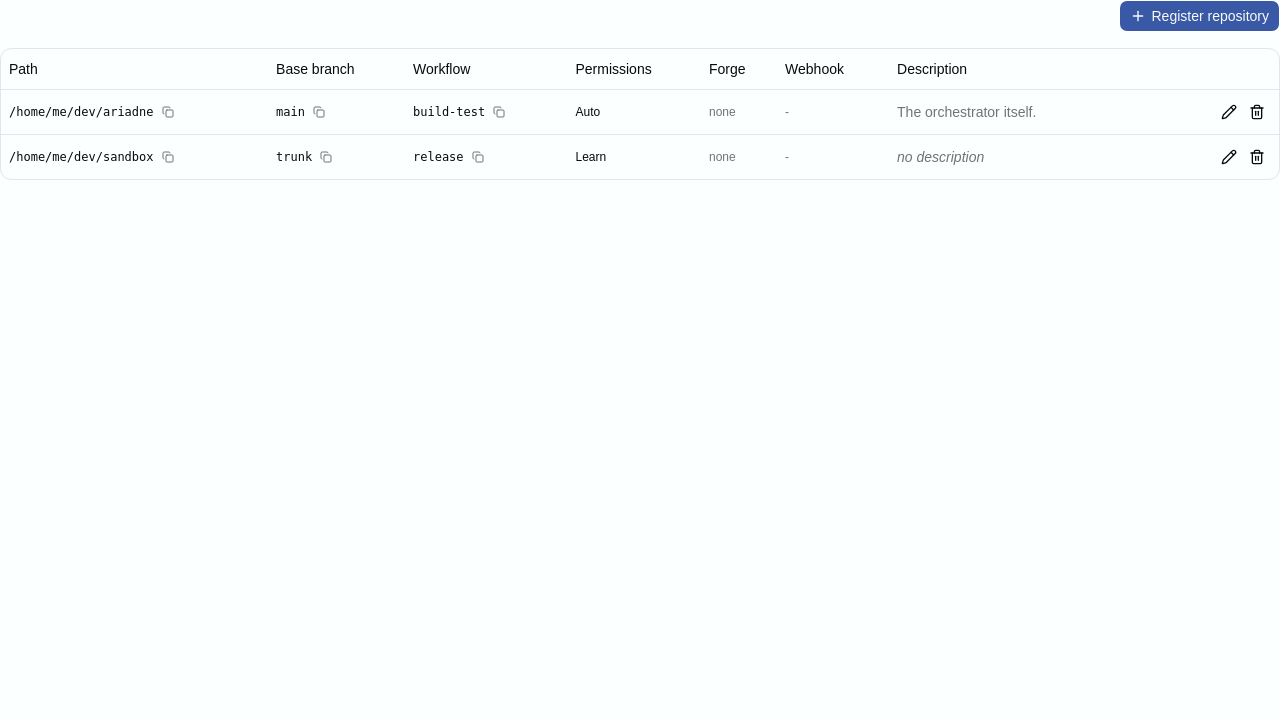
removing a repository › keeps the daemon's refusal on screen and stops offering the click
What coordinates should you click on to do the following:
click the button named "Remove /home/me/dev/ariadne"
I would click on:
 (1257, 112)
Its box is left=1243, top=98, right=1271, bottom=126.
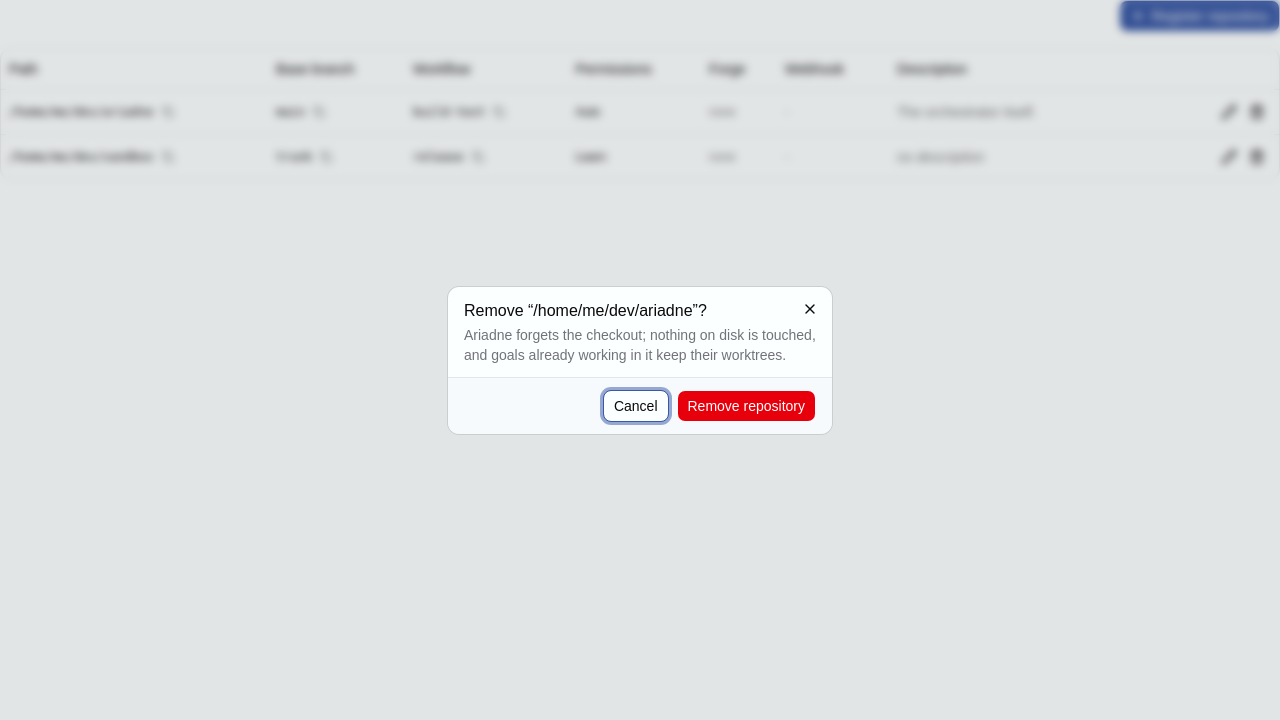
What coordinates should you click on to do the following:
click the button "Remove repository"
I would click on:
 (746, 406)
Its box is left=676, top=390, right=816, bottom=422.
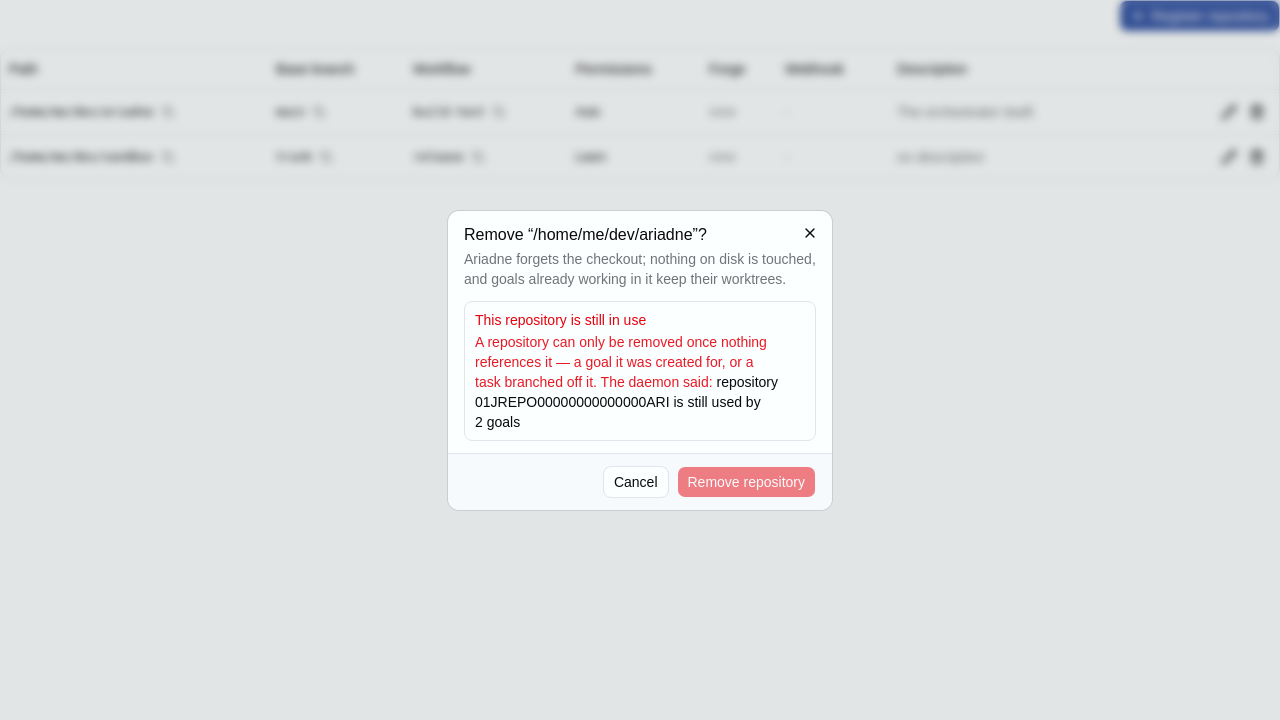
Expected: the text "This repository is still in use" is shown, left=475, top=312, right=646, bottom=328
Expected: the text "repository 01JREPO00000000000000ARI is still used by 2 goals" is shown, left=475, top=374, right=778, bottom=430
Expected: the button "Remove repository" is disabled, left=676, top=466, right=816, bottom=498
